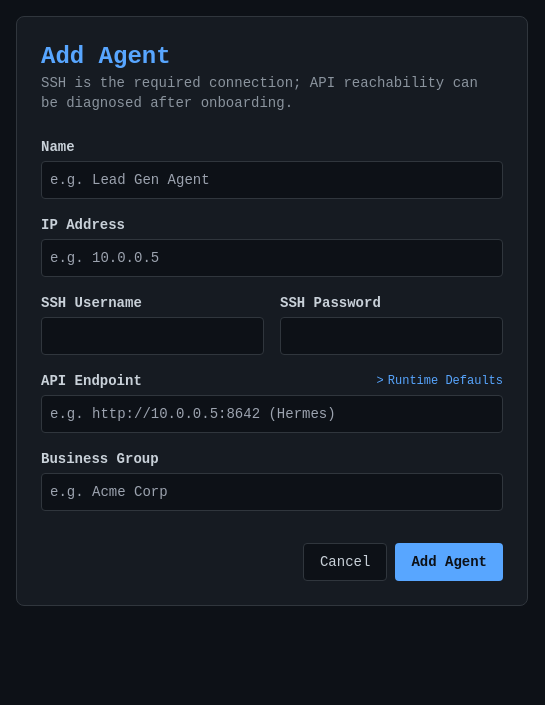
Test: AddAgent › displays AGENT_UNREACHABLE error
Type "New Agent" into the field labelled "Name" at {"x": 272, "y": 180}, box top-left (41, 161), bottom-right (503, 199)
Type "10.0.0.1" into the field labelled "IP Address" at {"x": 272, "y": 258}, box top-left (41, 239), bottom-right (503, 277)
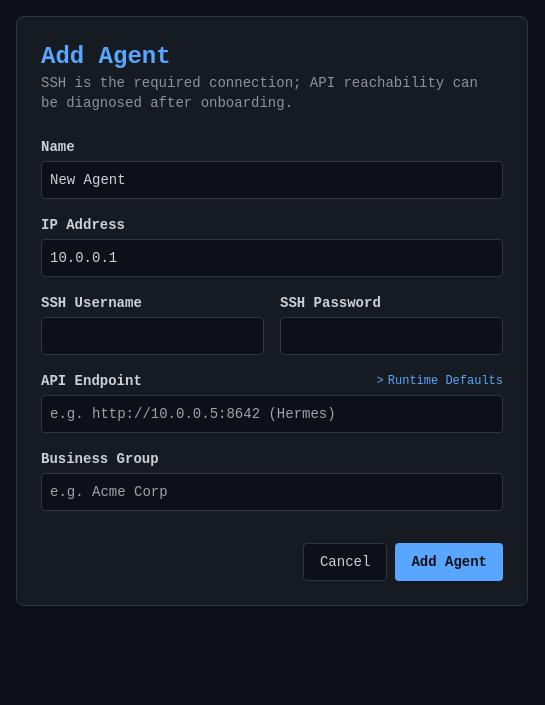
Type "admin" into the field labelled "SSH Username" at {"x": 152, "y": 336}, box top-left (41, 317), bottom-right (264, 355)
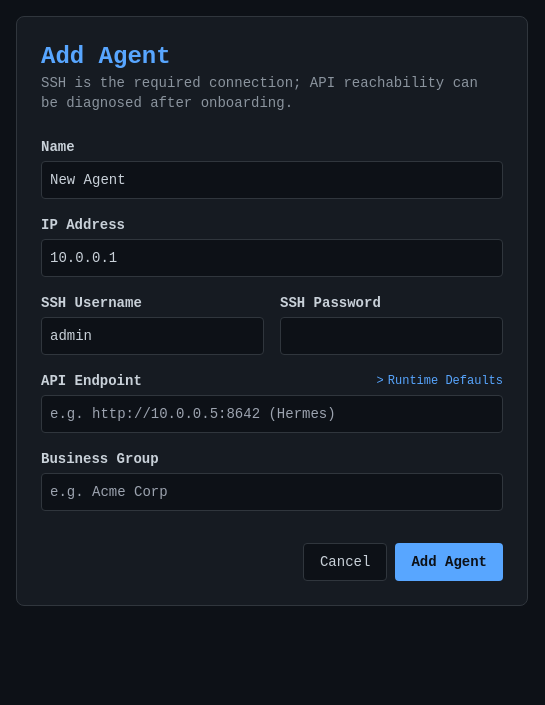
Type "pass" into the password field labelled "SSH Password" at {"x": 392, "y": 336}, box top-left (280, 317), bottom-right (503, 355)
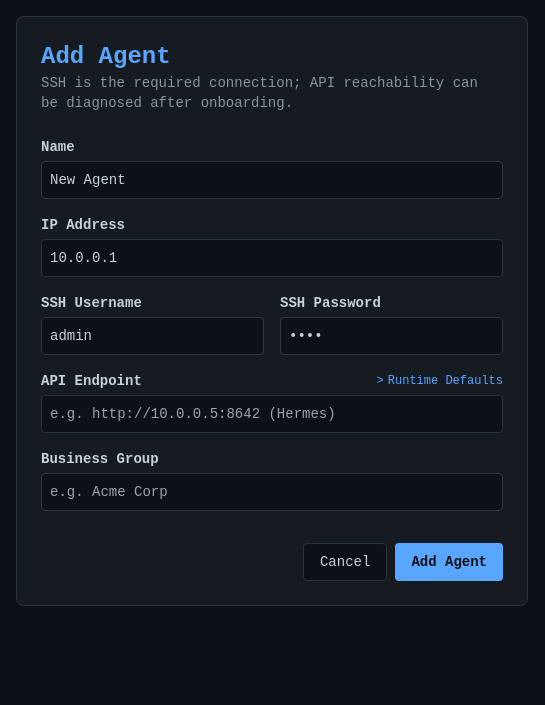
Type "http://10.0.0.1" into the field labelled "API Endpoint" at {"x": 272, "y": 414}, box top-left (41, 395), bottom-right (503, 433)
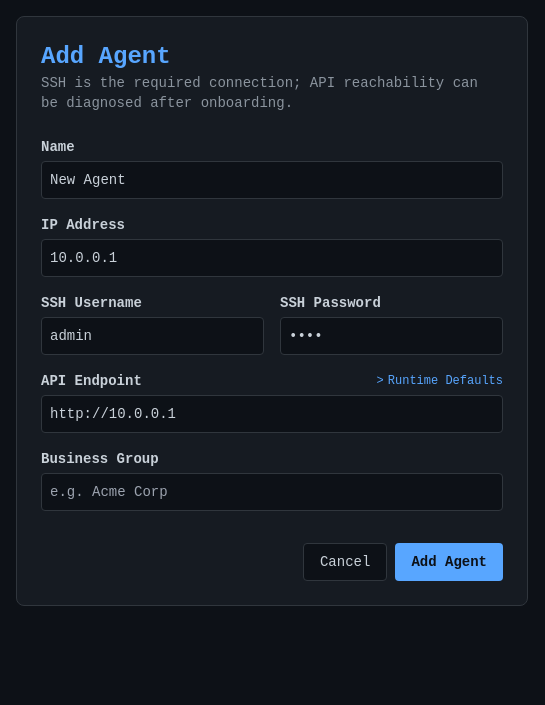
Type "Acme" into the field labelled "Business Group" at {"x": 272, "y": 492}, box top-left (41, 473), bottom-right (503, 511)
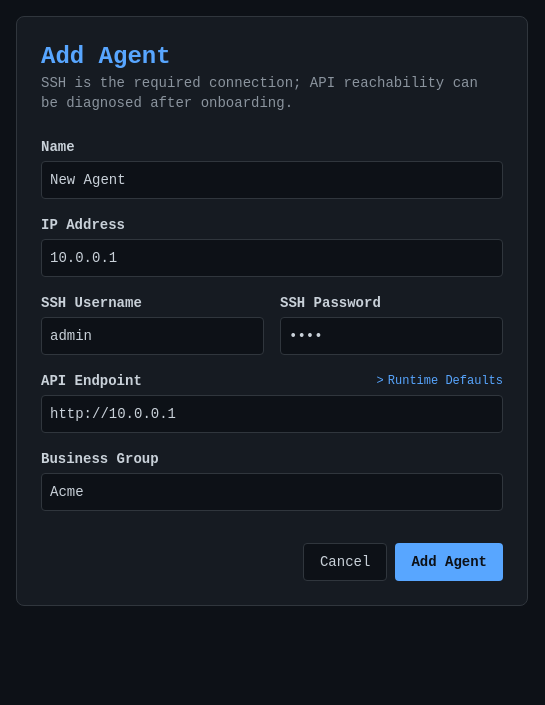
Click the button "Add Agent" at {"x": 449, "y": 562}, box top-left (395, 543), bottom-right (503, 581)
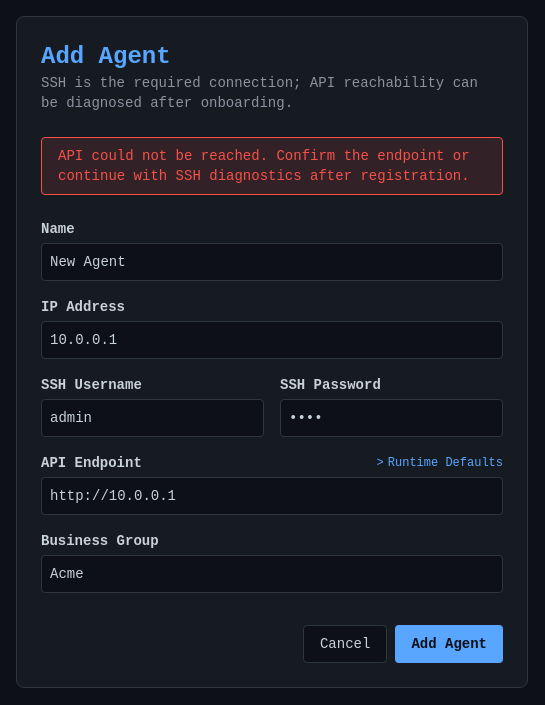
Now the text "API could not be reached" is shown, box top-left (58, 148), bottom-right (470, 184)
